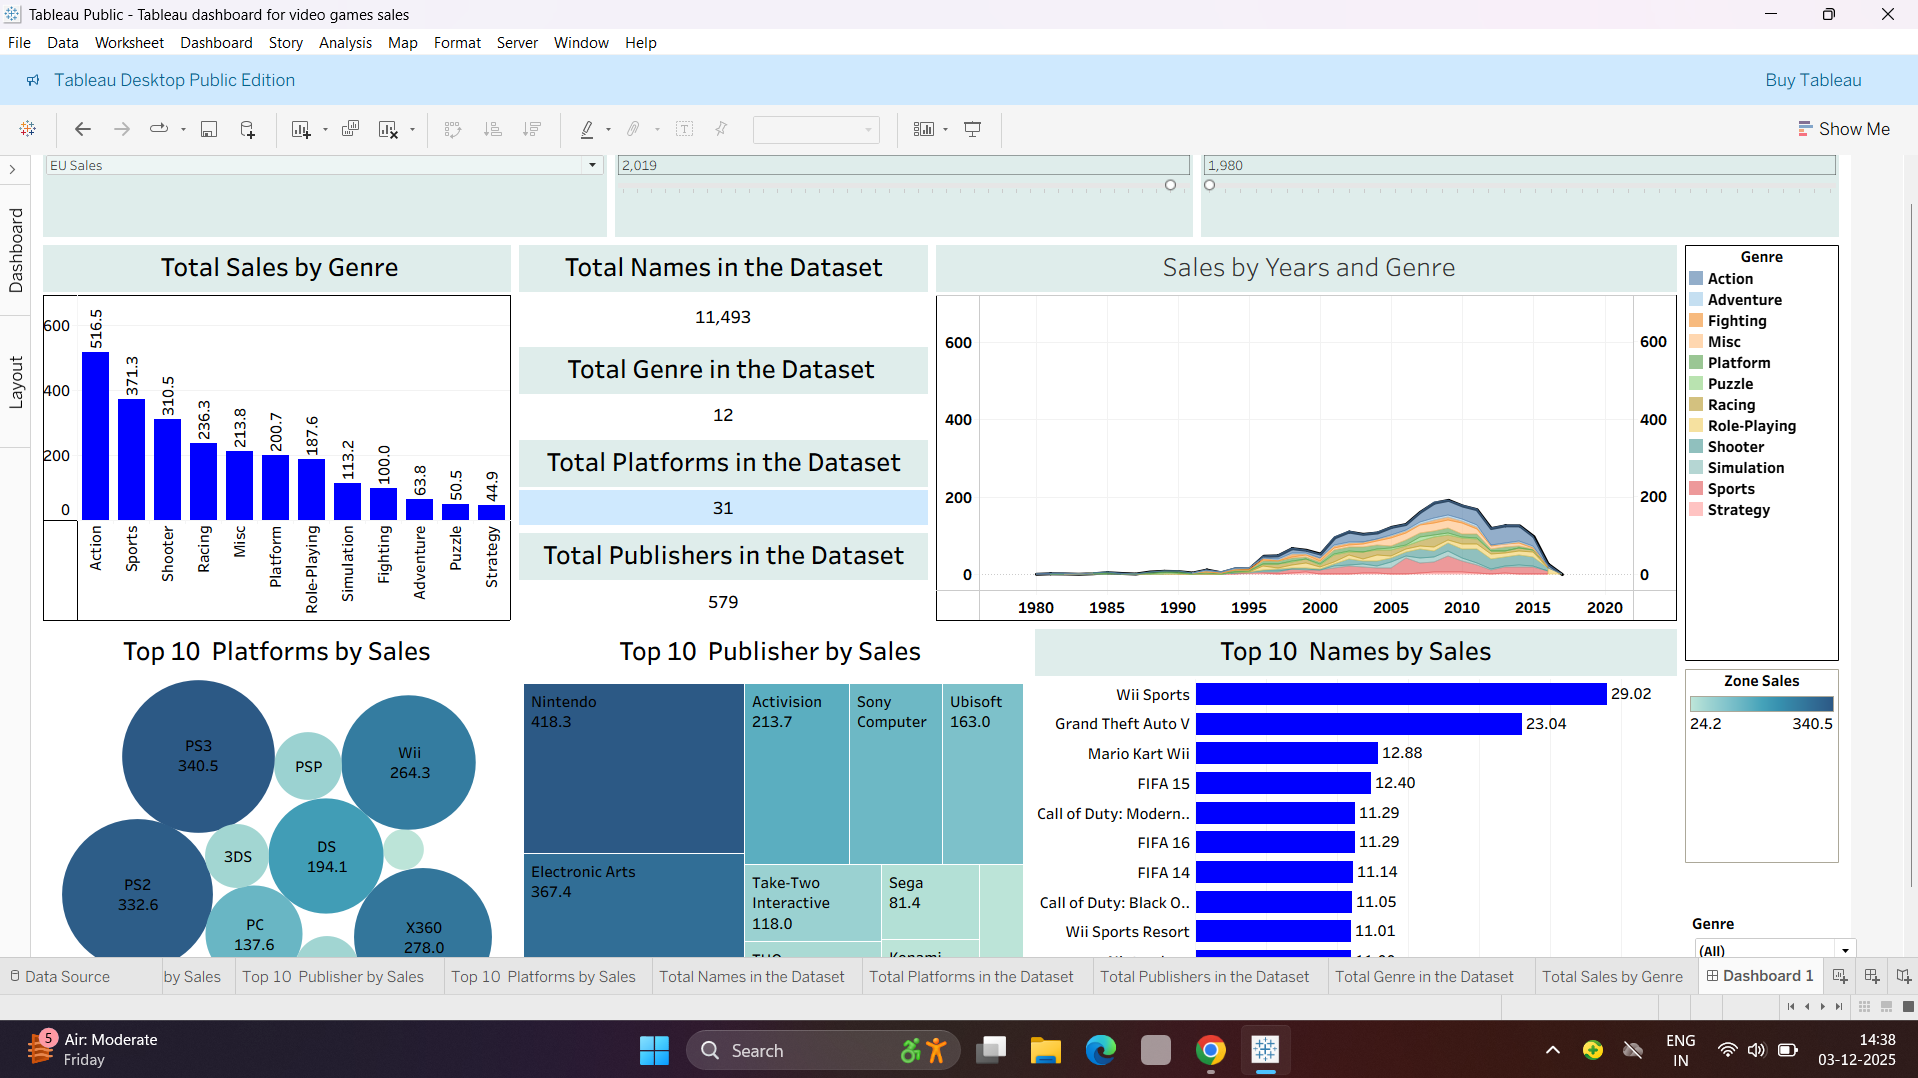

What the dashboard file says about the page in this screenshot:
{"tool":"tableau","page":{"name":"Dashboard 1","canvas":[1000,1000],"units":"permille","ordinal":0},"visuals":[{"type":"parameter","param":"[Parameters].[Parameter 1]","box":[4.4,8.9,314.2,127.7]},{"type":"parameter","param":"[Parameters].[Parameter 3]","box":[318.7,8.9,322,127.7]},{"type":"parameter","param":"[Parameters].[Parameter 2]","box":[640.6,8.9,355,127.7]},{"type":"worksheet","title":"Total Sales by Genre","mark":"Automatic","rows":["Calculation_2775343283205341186"],"cols":["Genre"],"box":[4.4,136.6,261.4,427.2]},{"type":"worksheet","title":"Total Names in the Dataset","mark":"Automatic","box":[265.8,136.6,229.4,113.4]},{"type":"worksheet","title":" Sales by Years and Genre","mark":"Automatic","rows":["Calculation_2775343283205341186","Calculation_2775343283205341186"],"cols":["Year"],"box":[495.2,136.6,411.4,427.2]},{"type":"legend","title":" Sales by Years and Genre","param":"[federated.14ozxrk0syi6to12fok341l12nju].[none:Genre:nk]","box":[906.6,136.6,89,471.1]},{"type":"worksheet","title":"Total Genre in the Dataset ","mark":"Automatic","box":[265.8,250,229.4,103.3]},{"type":"worksheet","title":"Total Platforms in the Dataset","mark":"Automatic","box":[265.8,353.3,229.4,103.7]},{"type":"worksheet","title":"Total Publishers in the Dataset","mark":"Automatic","box":[265.8,457,229.4,106.8]},{"type":"worksheet","title":"Top 10  Platforms by Sales","mark":"Circle","box":[4.4,563.8,261.5,427.3]},{"type":"worksheet","title":"Top 10  Publisher by Sales ","mark":"Automatic","box":[265.9,563.8,283.5,427.3]},{"type":"worksheet","title":"Top 10  Names by Sales","mark":"Automatic","rows":["Name"],"cols":["Calculation_2775343283205341186"],"box":[549.5,563.8,357.1,427.3]},{"type":"legend","title":"Top 10  Platforms by Sales","param":"[federated.14ozxrk0syi6to12fok341l12nju].[sum:Calculation_2775343283205341186:qk","box":[906.6,607.7,89,224.5]},{"type":"filter","title":" Sales by Years and Genre","param":"[federated.14ozxrk0syi6to12fok341l12nju].[none:Genre:nk]","box":[912.6,882.8,92.3,82.3]}]}

Visuals, with their boxes on the dashboard's canvas, which has no fixed pixel size, in thousandths of its width and height (x1, y1, x2, y2). These are canvas units, not pixel positions in the 1918x1078 screenshot, which may show the page scaled, cropped or inside an application window:
parameter: select_region(4, 9, 319, 137)
parameter: select_region(319, 9, 641, 137)
parameter: select_region(641, 9, 996, 137)
"Total Sales by Genre" worksheet: select_region(4, 137, 266, 564)
"Total Names in the Dataset" worksheet: select_region(266, 137, 495, 250)
" Sales by Years and Genre" worksheet: select_region(495, 137, 907, 564)
" Sales by Years and Genre" legend: select_region(907, 137, 996, 608)
"Total Genre in the Dataset " worksheet: select_region(266, 250, 495, 353)
"Total Platforms in the Dataset" worksheet: select_region(266, 353, 495, 457)
"Total Publishers in the Dataset" worksheet: select_region(266, 457, 495, 564)
"Top 10  Platforms by Sales" worksheet (Circle marks): select_region(4, 564, 266, 991)
"Top 10  Publisher by Sales " worksheet: select_region(266, 564, 549, 991)
"Top 10  Names by Sales" worksheet: select_region(550, 564, 907, 991)
"Top 10  Platforms by Sales" legend: select_region(907, 608, 996, 832)
" Sales by Years and Genre" filter: select_region(913, 883, 1005, 965)
